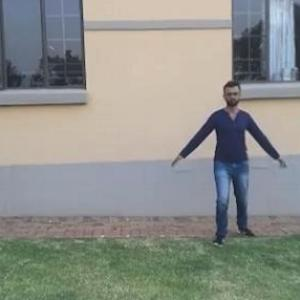land: (180, 83, 280, 235)
